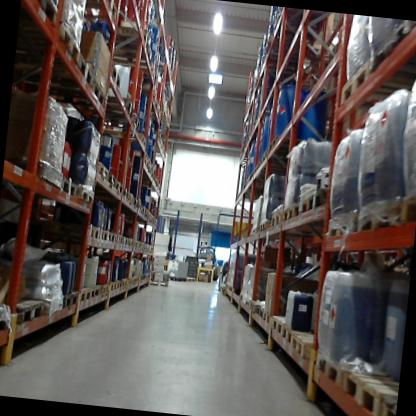pallet: (76, 0, 159, 81), (337, 54, 416, 114), (311, 351, 398, 402), (12, 74, 112, 109), (367, 18, 416, 81), (77, 88, 148, 130), (343, 371, 398, 416), (39, 49, 99, 88), (10, 150, 64, 186), (37, 27, 88, 65), (356, 197, 399, 241), (263, 32, 321, 61), (325, 206, 364, 245), (12, 295, 53, 331), (42, 219, 102, 243), (106, 18, 150, 48), (268, 211, 322, 233), (260, 148, 310, 171), (282, 203, 326, 229), (289, 331, 327, 359), (308, 185, 340, 217), (19, 0, 63, 22), (266, 132, 308, 155), (259, 222, 308, 240), (35, 293, 66, 317), (397, 190, 416, 224), (55, 169, 78, 195), (0, 311, 18, 343), (56, 290, 78, 315), (74, 179, 95, 205), (245, 299, 268, 322), (294, 193, 312, 222), (69, 284, 90, 308), (93, 156, 111, 183), (281, 324, 306, 343), (252, 166, 282, 180), (270, 317, 288, 339), (106, 171, 124, 193), (246, 223, 264, 242), (262, 310, 277, 330), (255, 159, 279, 171), (88, 282, 102, 301), (112, 231, 126, 248), (124, 187, 135, 207), (381, 402, 396, 416), (98, 281, 111, 297), (98, 226, 109, 243), (149, 280, 169, 289), (106, 228, 118, 243), (120, 235, 134, 247), (114, 276, 122, 293), (175, 275, 187, 286), (141, 151, 151, 164), (142, 164, 152, 177), (107, 279, 116, 293), (129, 238, 139, 250), (149, 161, 156, 176), (121, 274, 128, 288), (131, 193, 138, 206), (136, 161, 147, 169), (146, 156, 154, 167), (150, 172, 157, 184), (125, 276, 134, 285), (187, 276, 197, 283), (169, 275, 179, 282)
